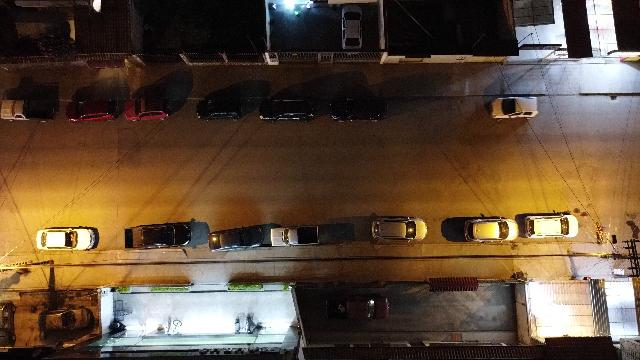Vehiculo: (125, 222, 191, 249), (521, 212, 579, 239), (36, 226, 99, 250), (329, 96, 387, 122), (208, 225, 264, 251), (326, 296, 389, 319), (259, 98, 315, 122), (66, 98, 118, 122), (0, 100, 59, 121), (372, 218, 426, 240), (465, 219, 519, 241), (490, 96, 539, 120), (38, 308, 89, 331), (125, 96, 171, 121), (270, 225, 319, 246), (196, 98, 240, 120), (0, 301, 16, 346)
